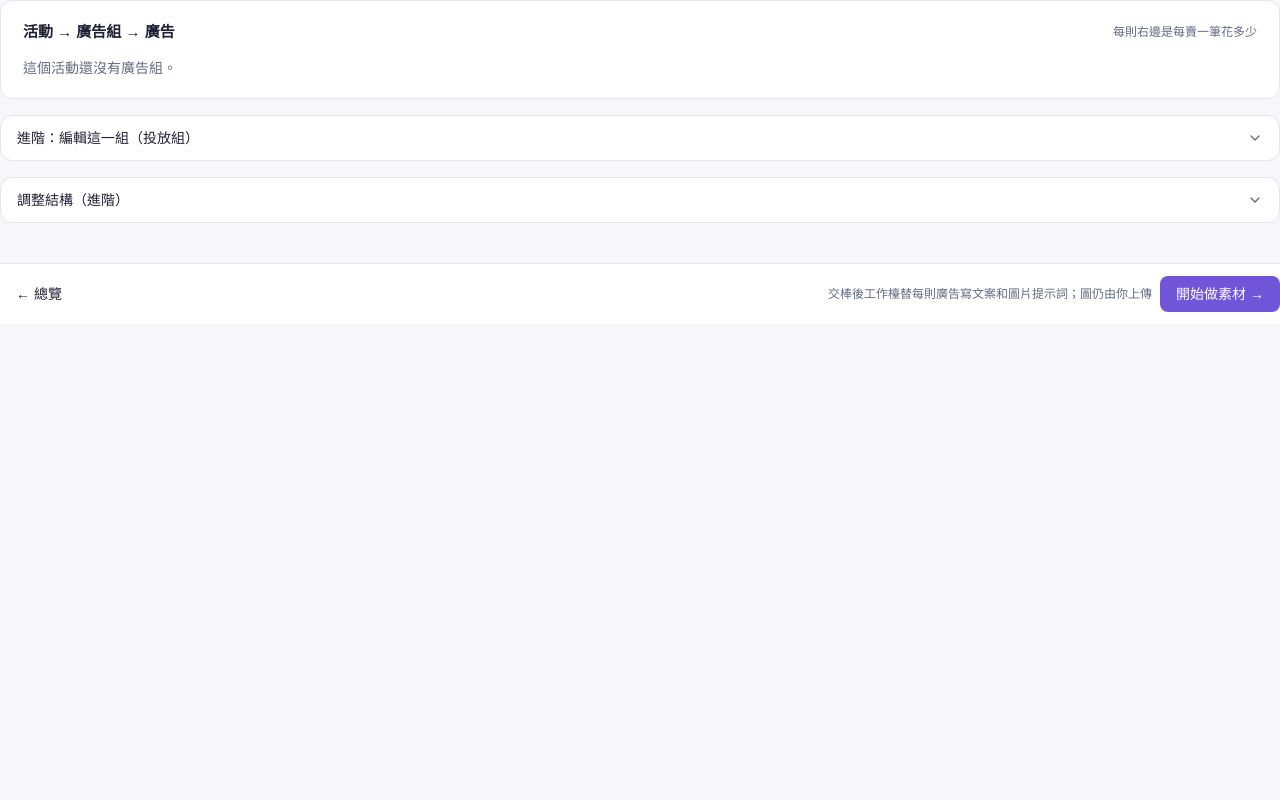
DeliveryTab（F06-I02） › 下一步是交棒時，「調整結構（進階）」裡不再有開始做素材（只在動作列）
Click the button "調整結構（進階）" at (73,200), box [1,178,1279,222]
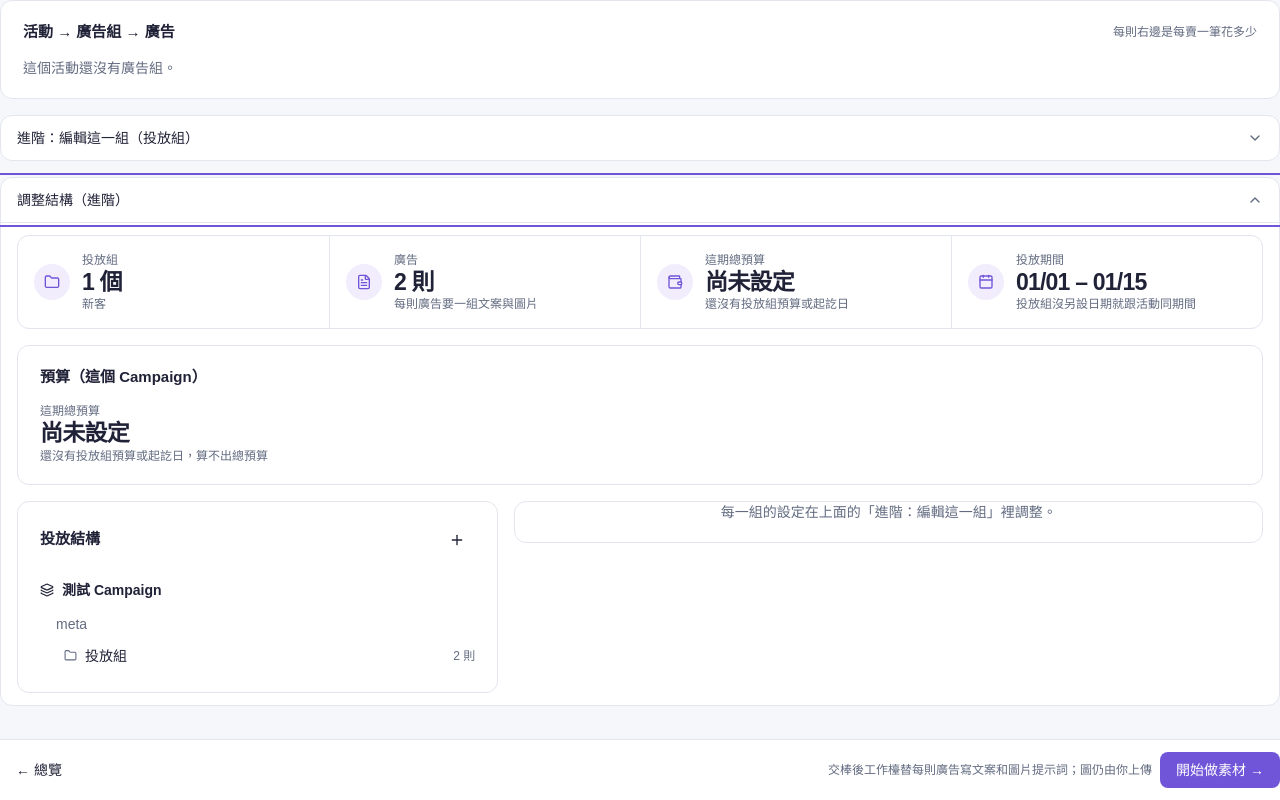
Expected: the number of buttons "開始做素材 →" is 1, [1160,752,1279,788]
Now the button named "新增節點" is shown, box [439,522,475,558]
